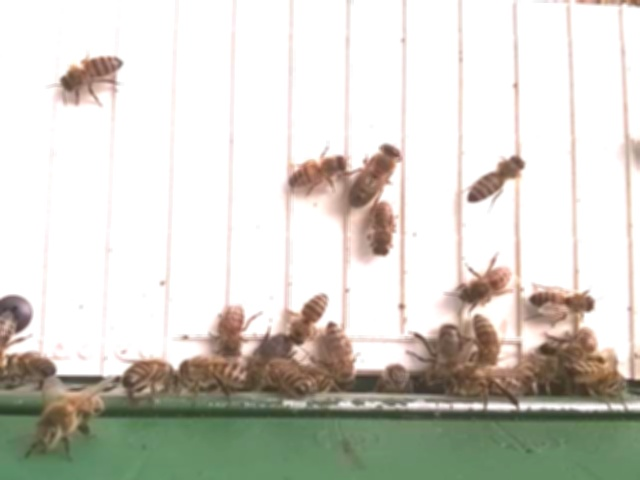Drone: (346, 139, 403, 209)
Worker: (466, 151, 528, 207), (59, 51, 127, 96), (285, 152, 350, 191), (458, 262, 514, 307), (290, 288, 331, 348), (323, 319, 358, 389), (528, 284, 598, 319), (178, 354, 250, 388), (469, 311, 502, 371), (368, 197, 399, 256), (218, 299, 249, 358)
